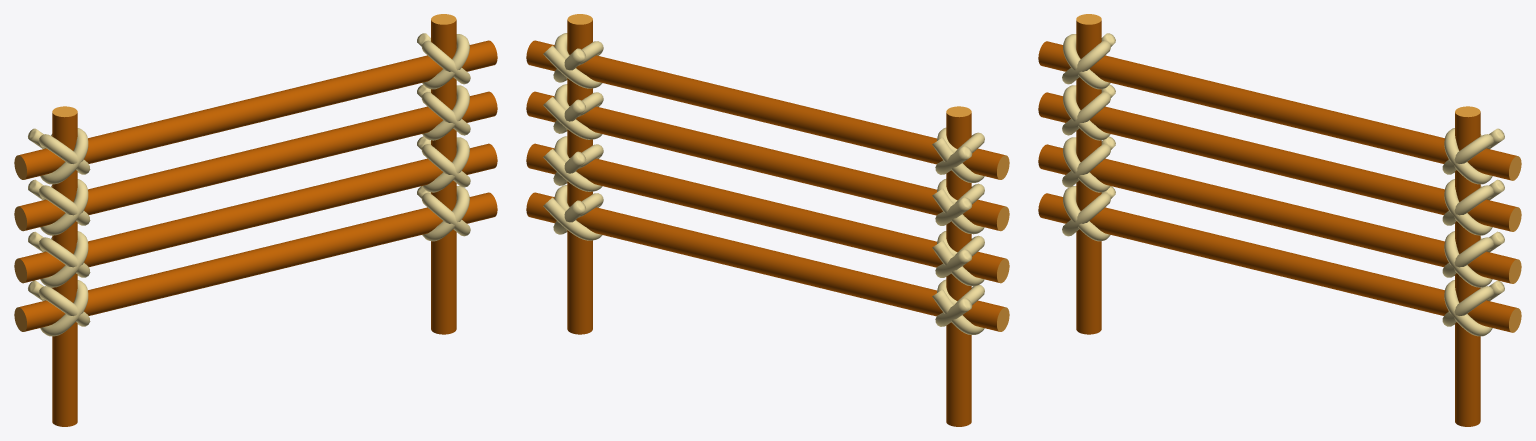
File: Valla_Anastasia.fbx
3 renders of one model, left to right at view 1: azimuth 30°, elevation 25°; view 2: azimuth 150°, elevation 25°; view 3: azimuth 330°, elevation 25°, orthographic.
Parts seen in each view (by area): view 1: Cylinder.001, Cylinder.006, Cylinder.003, Cylinder.002, Cylinder, NurbsPath, NurbsPath.004, NurbsPath.003, NurbsPath.011, NurbsPath.001, NurbsPath.005, NurbsPath.002 (+1 smaller); view 2: Cylinder.001, Cylinder.006, Cylinder.003, Cylinder.002, Cylinder, NurbsPath, NurbsPath.003, NurbsPath.011, NurbsPath.004, NurbsPath.001, NurbsPath.010, NurbsPath.005 (+1 smaller); view 3: Cylinder.002, Cylinder.006, Cylinder.001, Cylinder.003, Cylinder, NurbsPath.004, NurbsPath.003, NurbsPath, NurbsPath.011, NurbsPath.001, NurbsPath.005, NurbsPath.002 (+1 smaller).
Part boxes in pixels (x1,y1,x2,y2): Cylinder.001: [14, 40, 497, 179]; Cylinder.006: [14, 192, 497, 331]; Cylinder.003: [14, 143, 497, 283]; Cylinder.002: [14, 91, 497, 231]; Cylinder: [52, 14, 456, 426]; NurbsPath: [28, 34, 469, 174]; NurbsPath.004: [28, 137, 469, 277]; NurbsPath.003: [28, 85, 469, 225]; NurbsPath.011: [28, 186, 469, 326]; NurbsPath.001: [40, 33, 470, 184]; NurbsPath.005: [40, 136, 470, 287]; NurbsPath.002: [40, 84, 470, 235]; Cylinder.001: [526, 40, 1009, 179]; Cylinder.006: [526, 192, 1009, 331]; Cylinder.003: [526, 143, 1009, 283]; Cylinder.002: [526, 91, 1009, 231]; Cylinder: [567, 14, 971, 426]; NurbsPath: [543, 33, 984, 174]; NurbsPath.003: [543, 84, 984, 225]; NurbsPath.011: [543, 185, 984, 326]; NurbsPath.004: [543, 136, 984, 277]; NurbsPath.001: [553, 41, 984, 182]; NurbsPath.010: [553, 193, 984, 334]; NurbsPath.005: [553, 144, 984, 286]; Cylinder.002: [1038, 92, 1521, 231]; Cylinder.006: [1038, 193, 1521, 332]; Cylinder.001: [1038, 41, 1521, 180]; Cylinder.003: [1038, 144, 1521, 283]; Cylinder: [1076, 14, 1480, 426]; NurbsPath.004: [1063, 137, 1504, 277]; NurbsPath.003: [1063, 85, 1504, 225]; NurbsPath: [1063, 34, 1504, 174]; NurbsPath.011: [1063, 186, 1504, 326]; NurbsPath.001: [1062, 33, 1492, 184]; NurbsPath.005: [1062, 136, 1492, 287]; NurbsPath.002: [1062, 84, 1492, 235].
Size of the model in its own units: 246 by 155 by 25.51.
